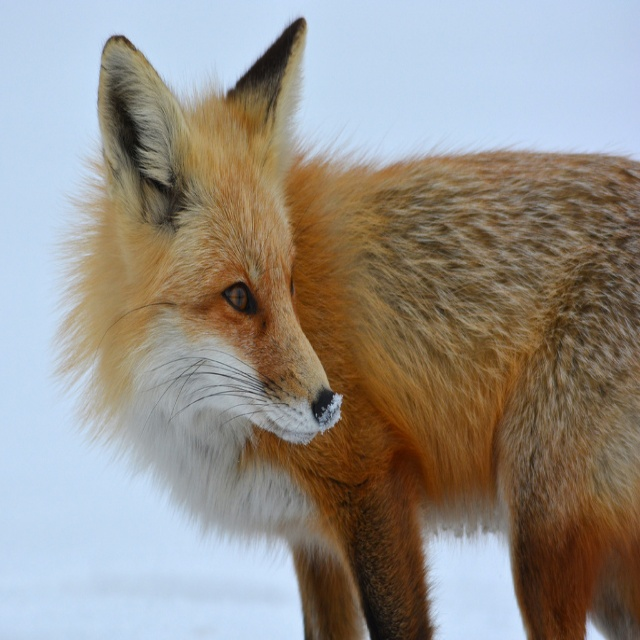Fox: (43, 9, 640, 639)
